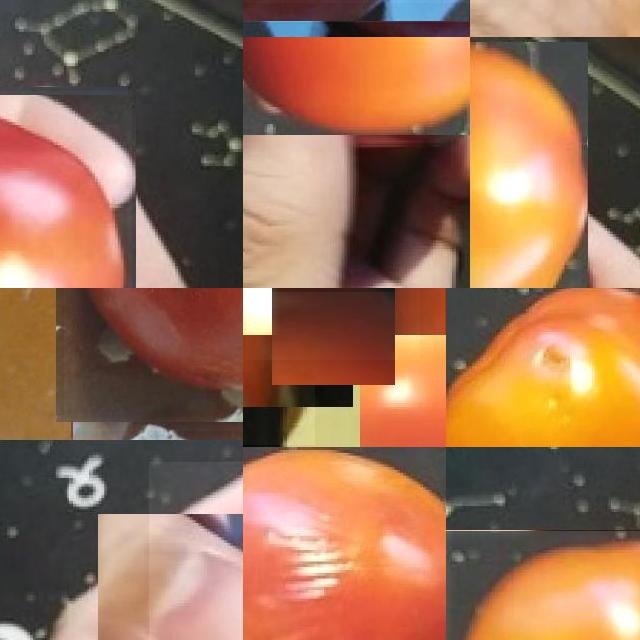0: (446, 288, 640, 447), (470, 45, 588, 288), (243, 37, 470, 135), (149, 462, 243, 640), (360, 288, 446, 447), (246, 288, 420, 360), (243, 288, 315, 445)
1: (243, 447, 446, 640), (64, 288, 243, 431)
Fresh Tomato: (0, 91, 132, 288)
